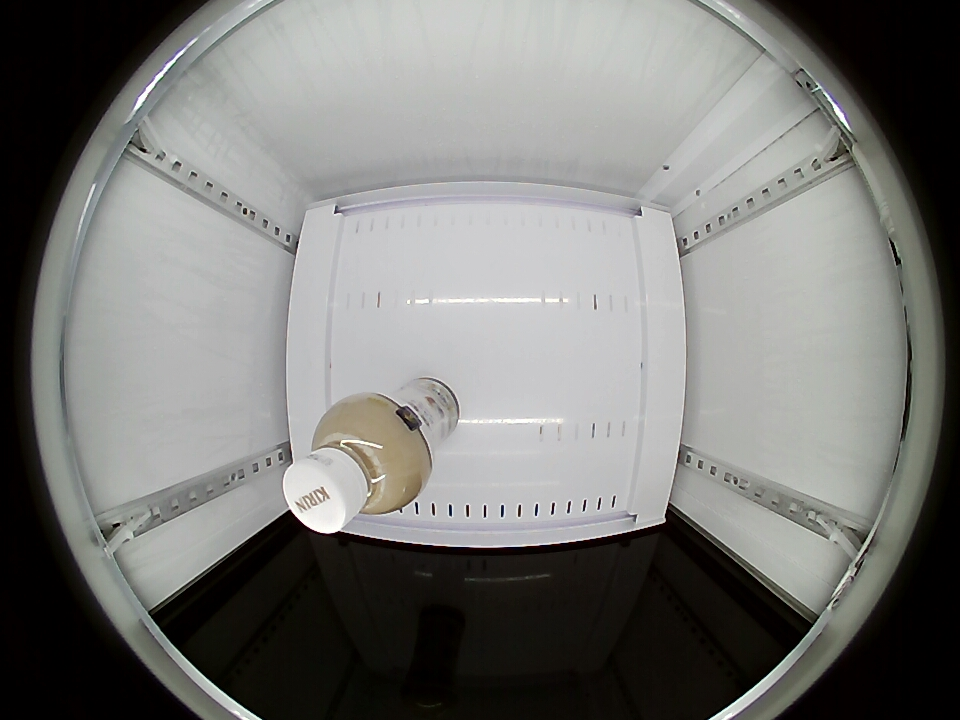wuhounaicha: (283, 398, 426, 535)
